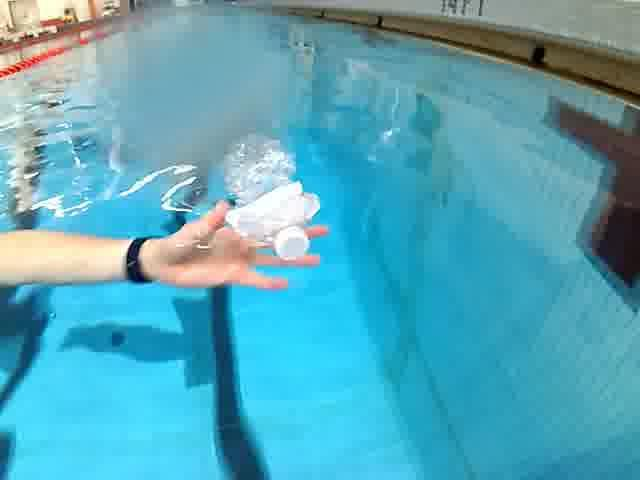Bottle: (221, 116, 317, 288)
